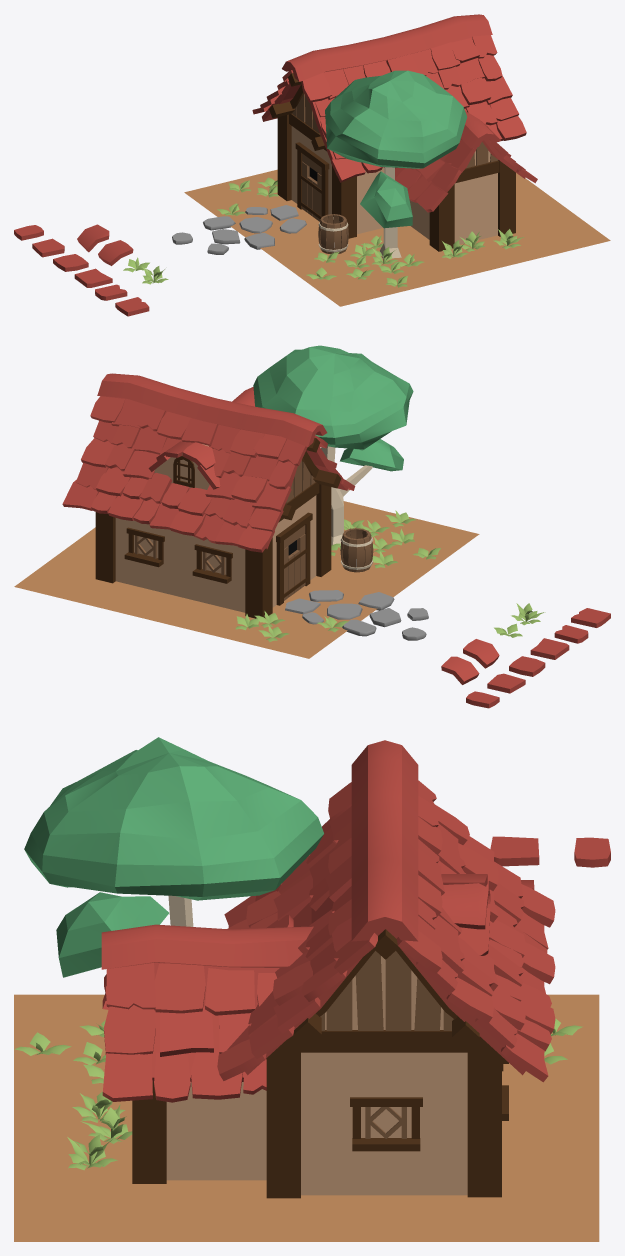
File: Assets Test v1 Export.fbx
3 views of the same model, one above another, from view 1: azimuth 30°, elevation 25°; view 2: azimuth 150°, elevation 25°; view 3: azimuth 270°, elevation 25° (orthographic). The views are drawn at different scales.
Visible parts, largest first — view 1: polySurface151; view 2: polySurface151; view 3: polySurface151.
Part boxes in pixels (x1,y1,x2,y2): polySurface151: (14, 14, 610, 316); polySurface151: (14, 345, 610, 708); polySurface151: (14, 737, 610, 1241).
Bounding box in the file's own units: 190 × 76.62 × 119.
